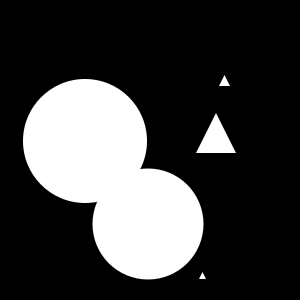rectangle: (23, 79, 147, 203), (92, 169, 204, 280)
triangle: (196, 113, 236, 153), (219, 75, 230, 86), (199, 272, 206, 279)
